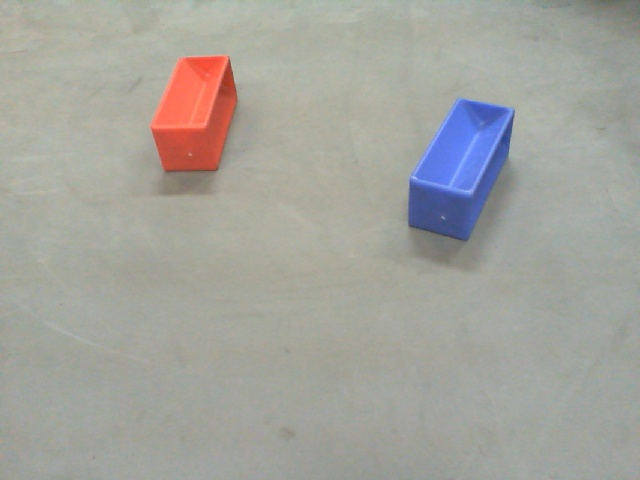BlueSample: (401, 95, 520, 251)
RedSample: (145, 51, 239, 181)
